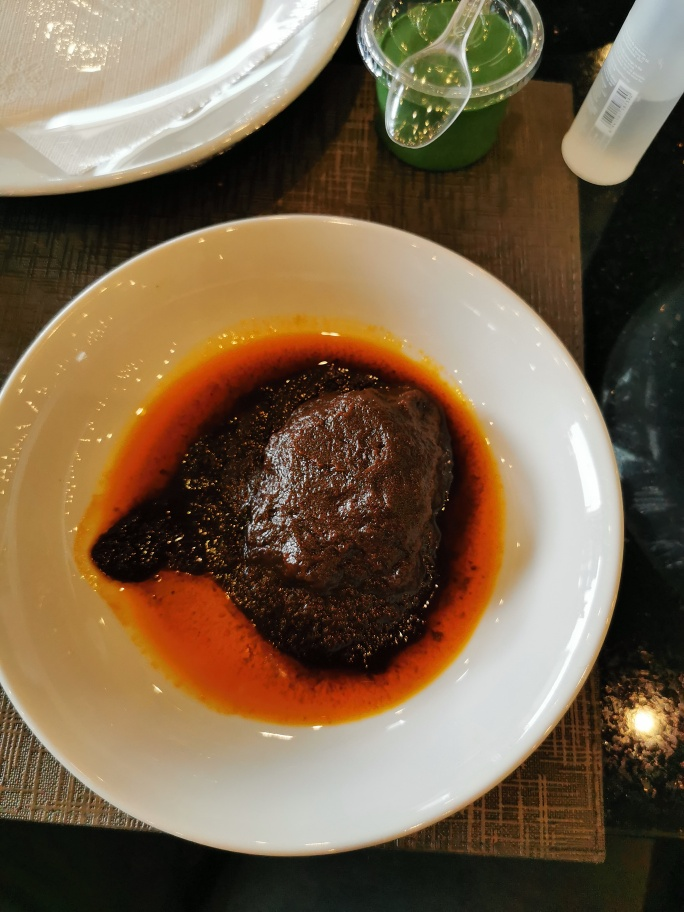rendang: (159, 372, 480, 684)
